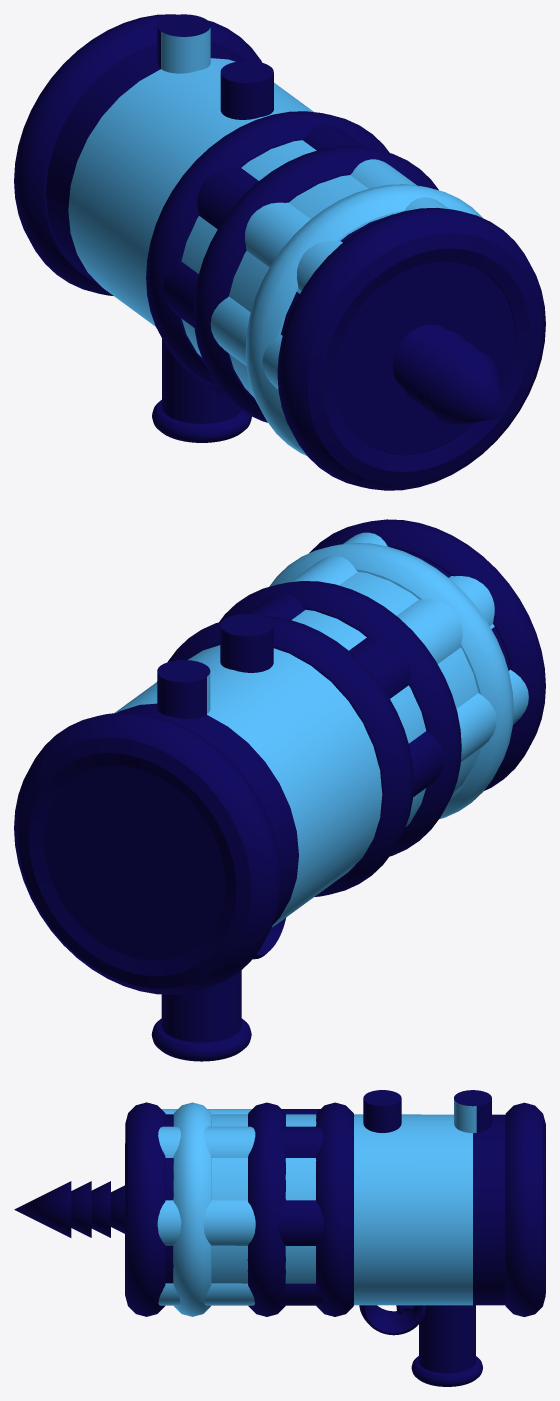
File: ecoGun.fbx
3 renders of one model, top to bottom at view 1: azimuth 30°, elevation 25°; view 2: azimuth 150°, elevation 25°; view 3: azimuth 270°, elevation 25°, orthographic. The views are drawn at different scales.
Parts seen in each view (by area): view 1: Cylinder, Torus.005, Torus.006, Torus.003, Torus.002, Torus.004, Cone.003, Cylinder.001, Cylinder.003, Cylinder.004, Cylinder.015, Cylinder.006 (+10 smaller); view 2: Cylinder, Torus.006, Torus.002, Torus.004, Torus.003, Torus.005, Cylinder.001, Cylinder.003, Cylinder.004, Cylinder.015, Cylinder.006, Torus (+6 smaller); view 3: Cylinder, Torus.006, Torus.005, Torus.002, Torus.004, Torus.003, Cylinder.001, Cylinder.013, Cylinder.008, Cone.003, Cylinder.004, Cylinder.003 (+12 smaller).
Part boxes in pixels (<box>): Cylinder: <box>45,44,514,455</box>; Torus.005: <box>277,208,545,490</box>; Torus.006: <box>14,14,261,295</box>; Torus.003: <box>193,146,438,422</box>; Torus.002: <box>146,111,389,386</box>; Torus.004: <box>245,184,483,455</box>; Cone.003: <box>429,350,504,425</box>; Cylinder.001: <box>162,339,240,423</box>; Cylinder.003: <box>157,14,210,73</box>; Cylinder.004: <box>220,60,273,119</box>; Cylinder.015: <box>245,202,310,267</box>; Cylinder.006: <box>197,167,258,229</box>; Cylinder: <box>44,549,510,960</box>; Torus.006: <box>14,712,281,994</box>; Torus.002: <box>157,616,413,896</box>; Torus.004: <box>269,543,513,819</box>; Torus.003: <box>219,581,461,856</box>; Torus.005: <box>309,519,545,790</box>; Cylinder.001: <box>161,970,241,1042</box>; Cylinder.003: <box>157,660,210,718</box>; Cylinder.004: <box>220,614,273,672</box>; Cylinder.015: <box>397,599,462,663</box>; Cylinder.006: <box>349,637,410,698</box>; Torus: <box>151,1018,251,1061</box>; Cylinder: <box>165,1114,505,1305</box>; Torus.006: <box>505,1102,545,1316</box>; Torus.005: <box>125,1102,165,1316</box>; Torus.002: <box>316,1102,353,1316</box>; Torus.004: <box>173,1102,211,1316</box>; Torus.003: <box>247,1102,285,1316</box>; Cylinder.001: <box>419,1305,475,1373</box>; Cylinder.013: <box>203,1200,255,1245</box>; Cylinder.008: <box>278,1200,323,1245</box>; Cone.003: <box>14,1181,71,1237</box>; Cylinder.004: <box>363,1090,401,1132</box>; Cylinder.003: <box>454,1090,491,1133</box>.
Bounding box in the file's own units: 22.56 × 31.92 × 55.73.
